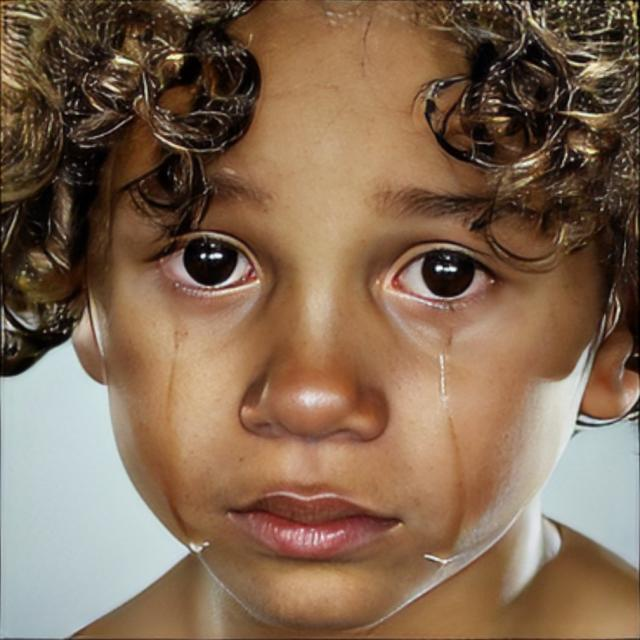sad: (79, 0, 604, 637)
